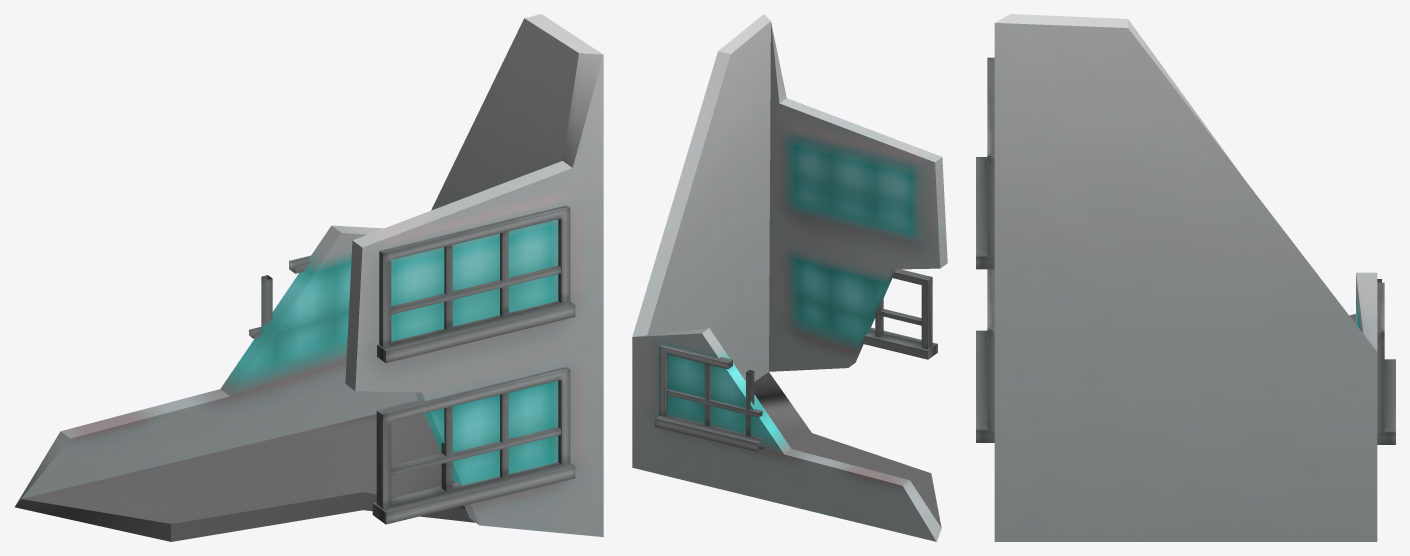
The model's file is B6Broke04.FBX.
The picture shows the model from 3 angles, left to right: view 1: azimuth 30°, elevation 25°; view 2: azimuth 150°, elevation 25°; view 3: azimuth 270°, elevation 25°; orthographic projection. The views are drawn at different scales.
Visible parts, largest first — view 1: B6Broke04; view 2: B6Broke04; view 3: B6Broke04.
Part boxes in pixels (left/top/right/bottom): B6Broke04: left=15, top=14, right=603, bottom=541; B6Broke04: left=632, top=14, right=947, bottom=541; B6Broke04: left=976, top=14, right=1395, bottom=541.
Bounding box in the file's own units: 69.13 × 77.54 × 56.84.
